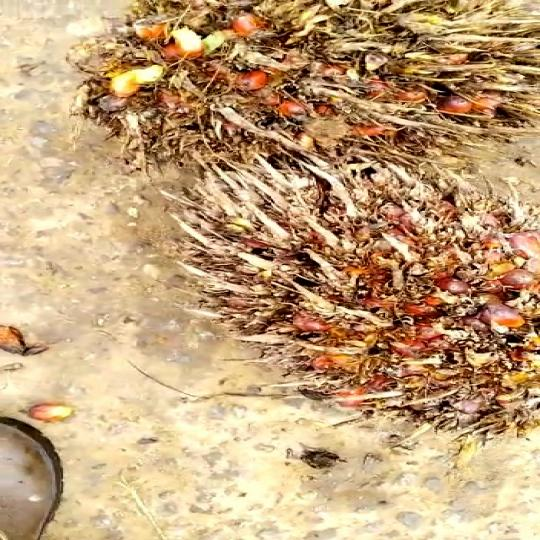terlalu masak: (180, 162, 540, 439)
